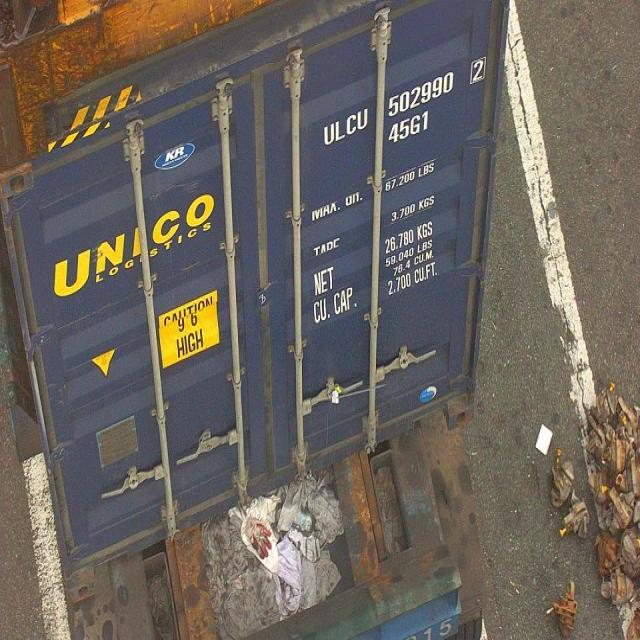ISO: (388, 110, 428, 146)
container_number: (324, 52, 490, 150)
